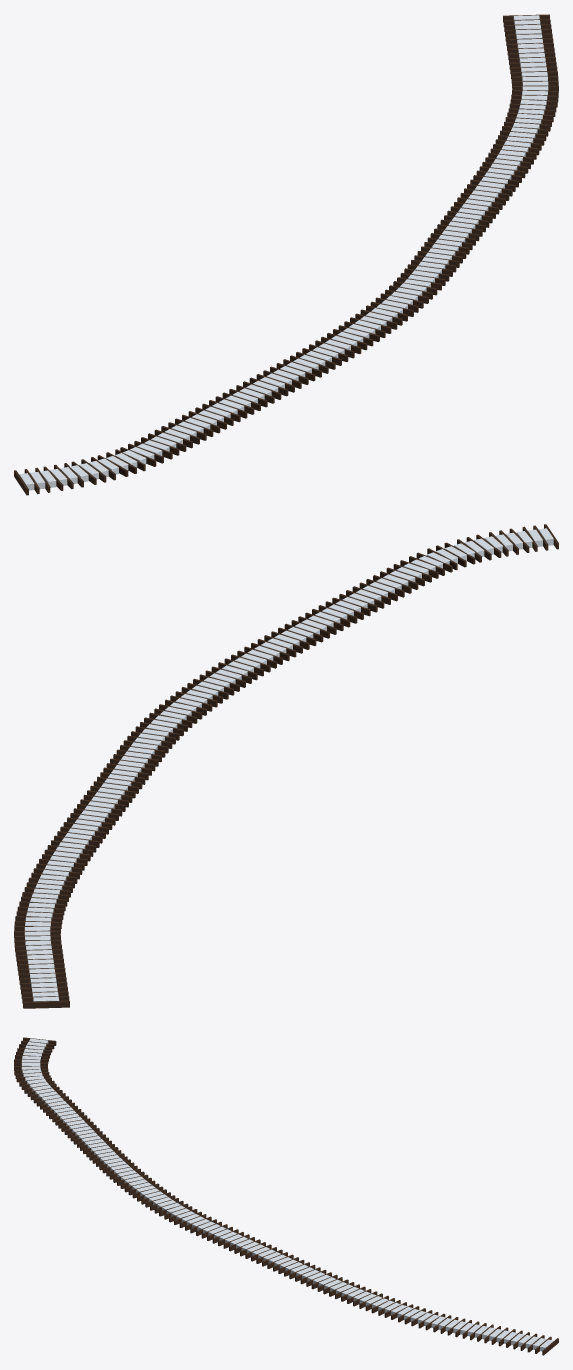
The model's file is Ties_-2_-1.fbx.
3 renders of one model, top to bottom at view 1: azimuth 30°, elevation 25°; view 2: azimuth 210°, elevation 25°; view 3: azimuth 270°, elevation 25°, orthographic. The views are drawn at different scales.
Parts seen in each view (by area): view 1: Ties_-2_-1; view 2: Ties_-2_-1; view 3: Ties_-2_-1.
Part boxes in pixels (x1,y1,x2,y2): Ties_-2_-1: [14, 14, 558, 495]; Ties_-2_-1: [14, 524, 558, 1008]; Ties_-2_-1: [14, 1037, 558, 1355].
Size of the model in its own units: 18270 by 170 by 13464.
